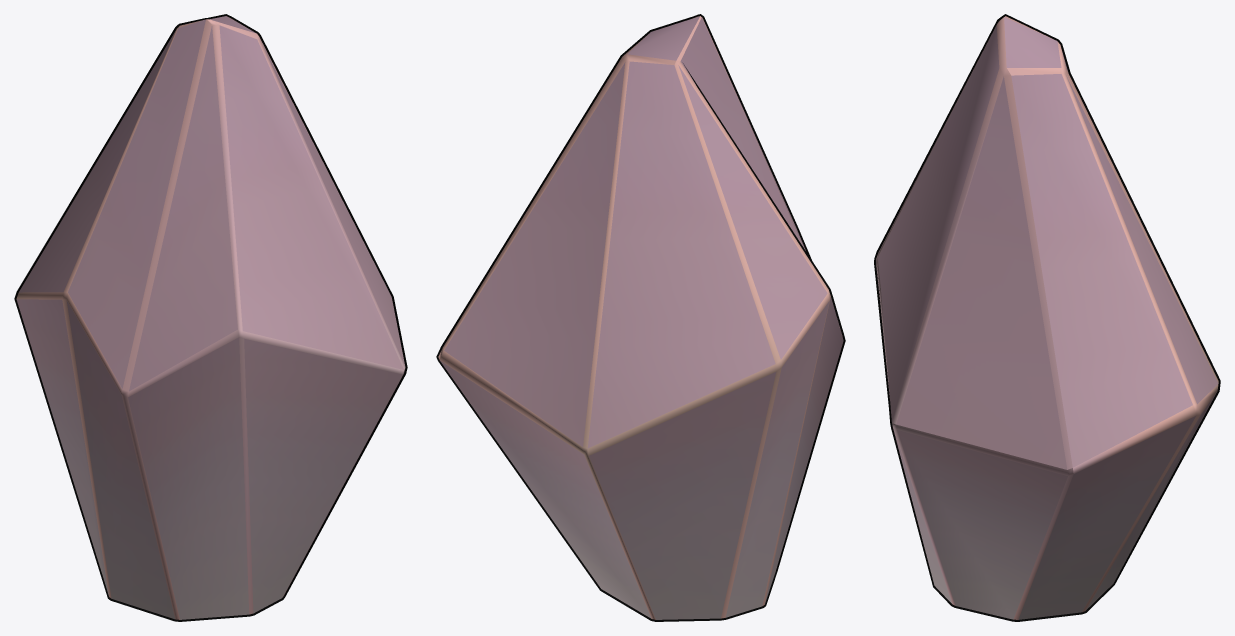
File: Crystal_Small_03.glb
The picture shows the model from 3 angles, left to right: view 1: azimuth 30°, elevation 25°; view 2: azimuth 150°, elevation 25°; view 3: azimuth 270°, elevation 25°; orthographic projection. The views are drawn at different scales.
Parts seen in each view (by area): view 1: Crystal_Small_03; view 2: Crystal_Small_03; view 3: Crystal_Small_03.
Boxes of the visible parts, x1,y1,x2,y2 form: Crystal_Small_03: (14,14,407,621); Crystal_Small_03: (436,14,845,621); Crystal_Small_03: (874,14,1220,621).
Bounding box in the file's own units: 1.23 × 1.91 × 1.05.
Materials: 2 (1 with a texture image).
